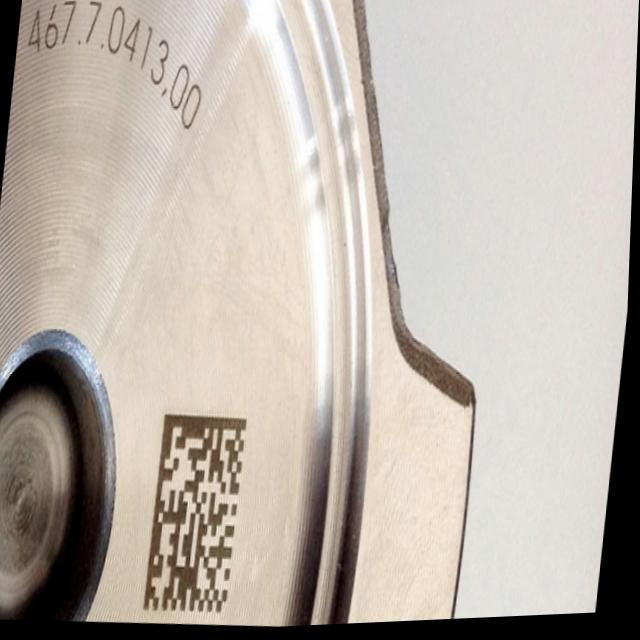datamatrix: (143, 399, 255, 631)
